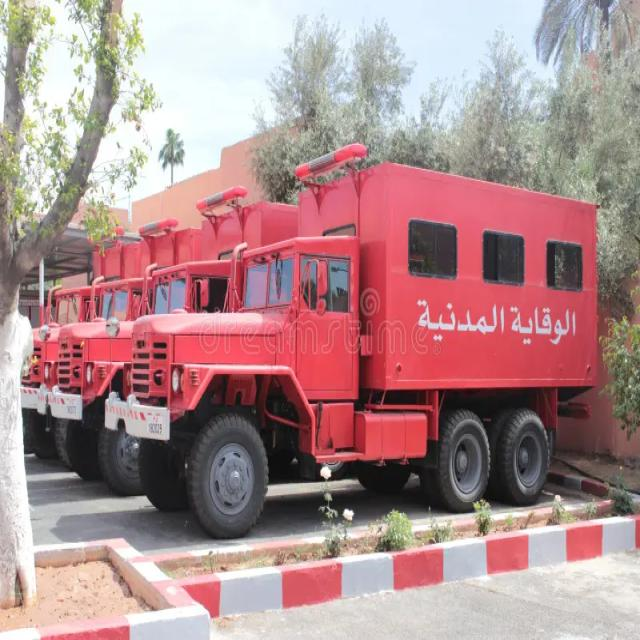pompier: (130, 144, 596, 532)
